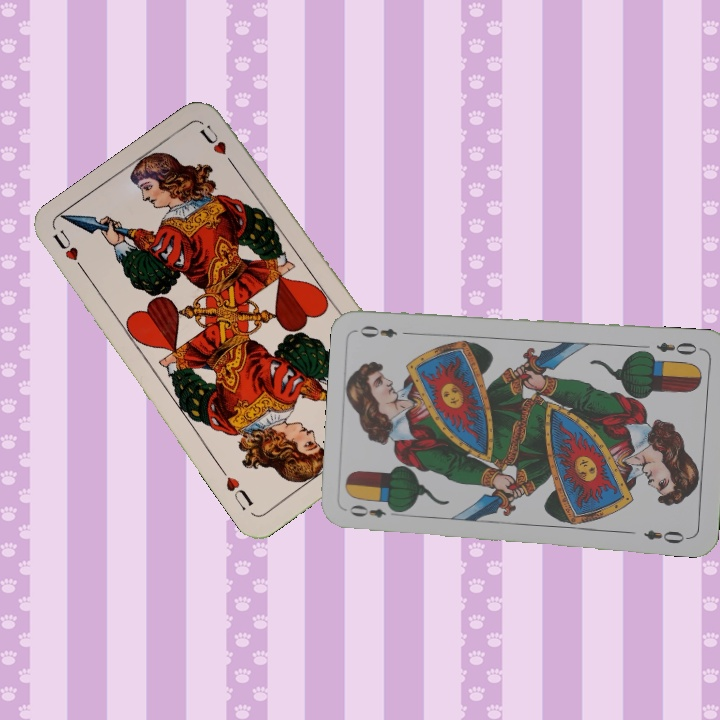EO: (346, 501, 403, 520), (652, 337, 699, 358)
HU: (49, 225, 90, 278)
